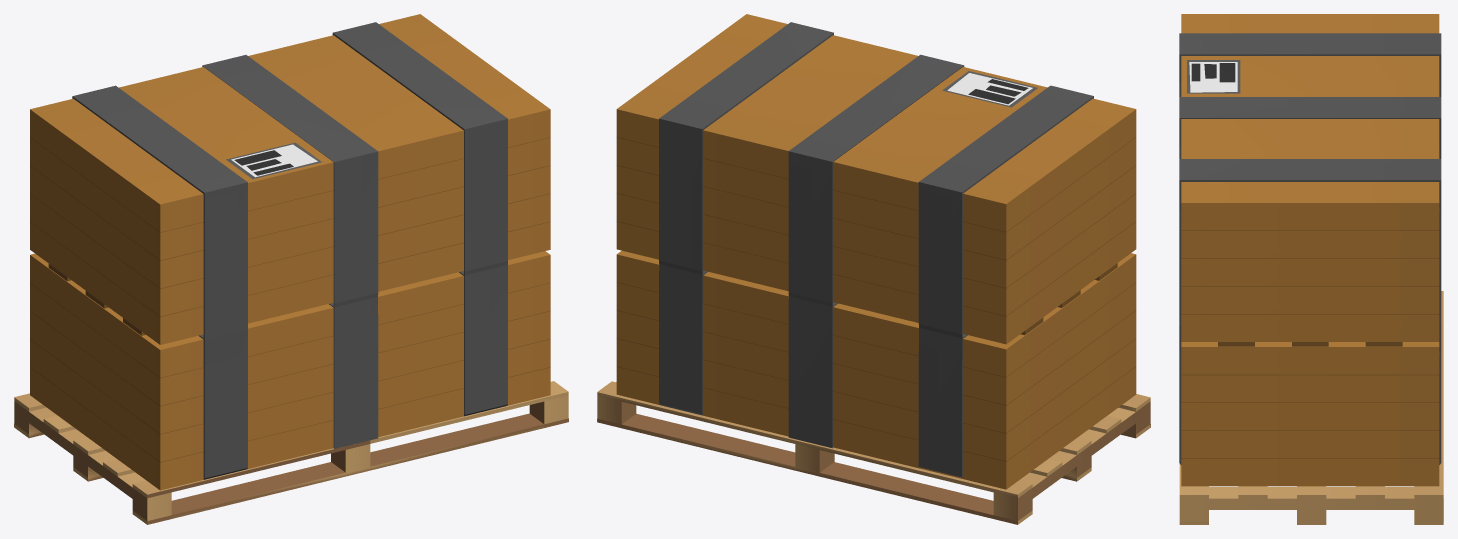
The model's file is Shipping Materials #2.fbx.
3 renders of one model, left to right at view 1: azimuth 30°, elevation 25°; view 2: azimuth 150°, elevation 25°; view 3: azimuth 270°, elevation 25°, orthographic.
Parts seen in each view (by area): view 1: Shipping Materials #2; view 2: Shipping Materials #2; view 3: Shipping Materials #2.
Part boxes in pixels (x1,y1,x2,y2): Shipping Materials #2: (14,14,568,524); Shipping Materials #2: (597,14,1150,524); Shipping Materials #2: (1179,14,1443,524).
Size of the model in its own units: 462 by 351 by 640.
Materials: 1 (1 with a texture image).
